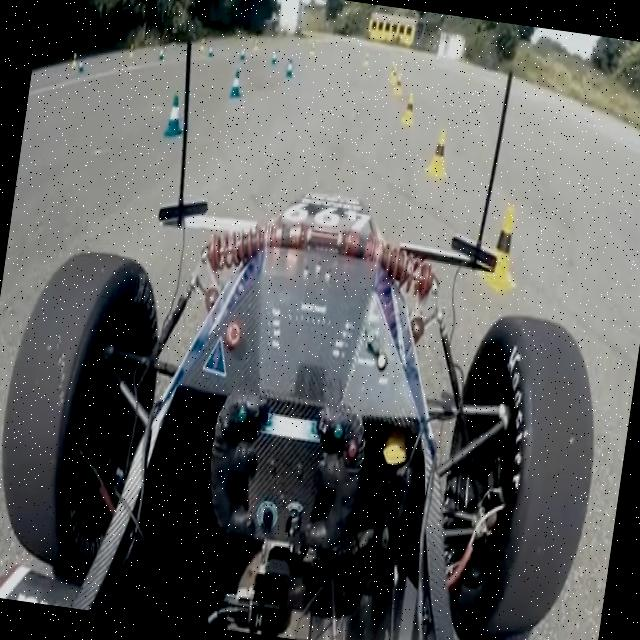blue_cone: (162, 94, 188, 142), (229, 70, 245, 100)
yellow_cone: (478, 202, 528, 292), (424, 126, 454, 184), (398, 91, 419, 128)
